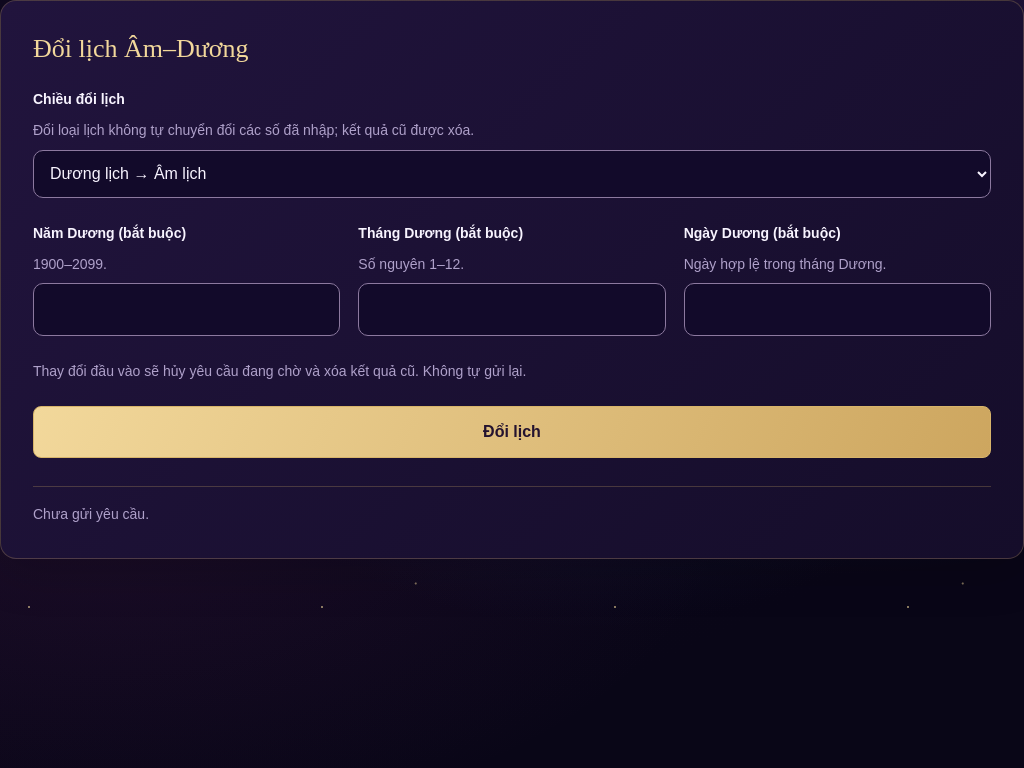
Test: Phase 6 independent calendar forms › clears a completed result immediately on edit without automatic resubmit
Type "2000" into the field labelled "Năm Dương (bắt buộc)".
click(187, 309); type("2000")  # box [33,283,340,336]
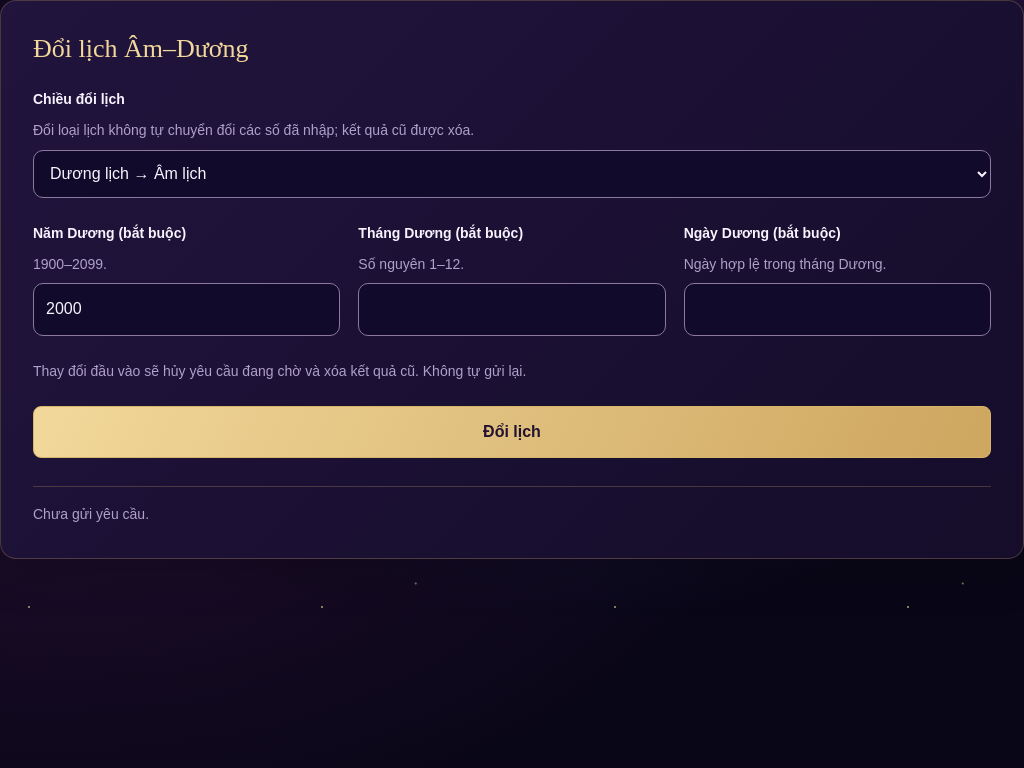
Type "1" into the field labelled "Tháng Dương (bắt buộc)".
click(512, 309); type("1")  # box [358,283,666,336]
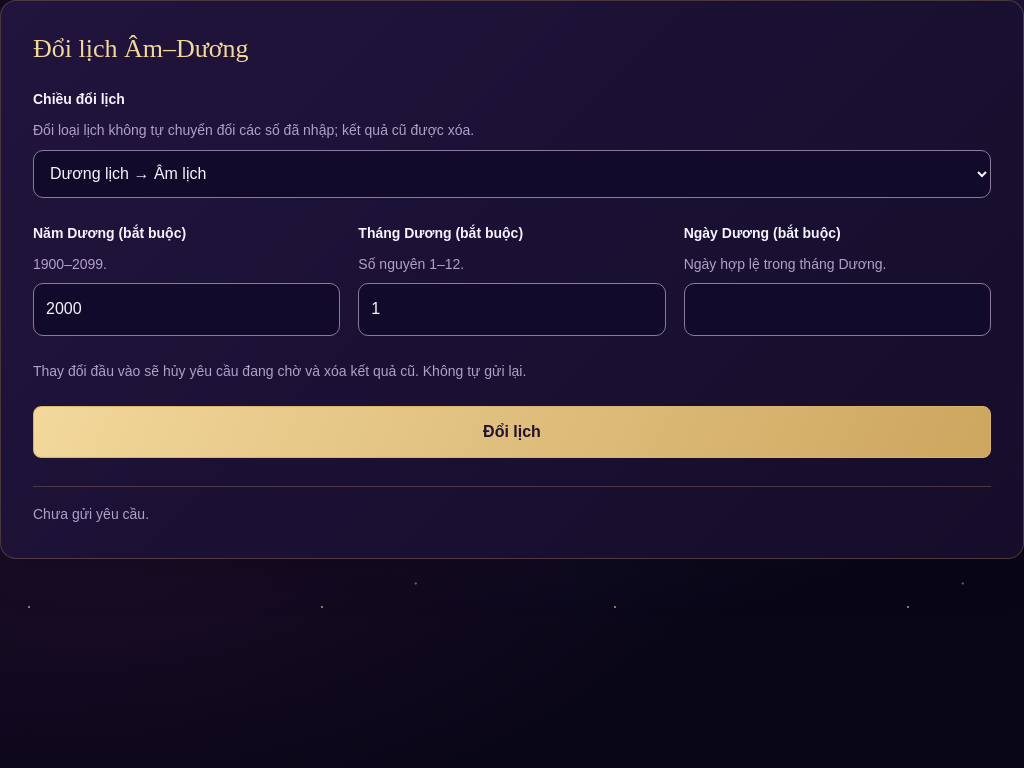
Type "1" into the field labelled "Ngày Dương (bắt buộc)".
click(837, 309); type("1")  # box [684,283,991,336]
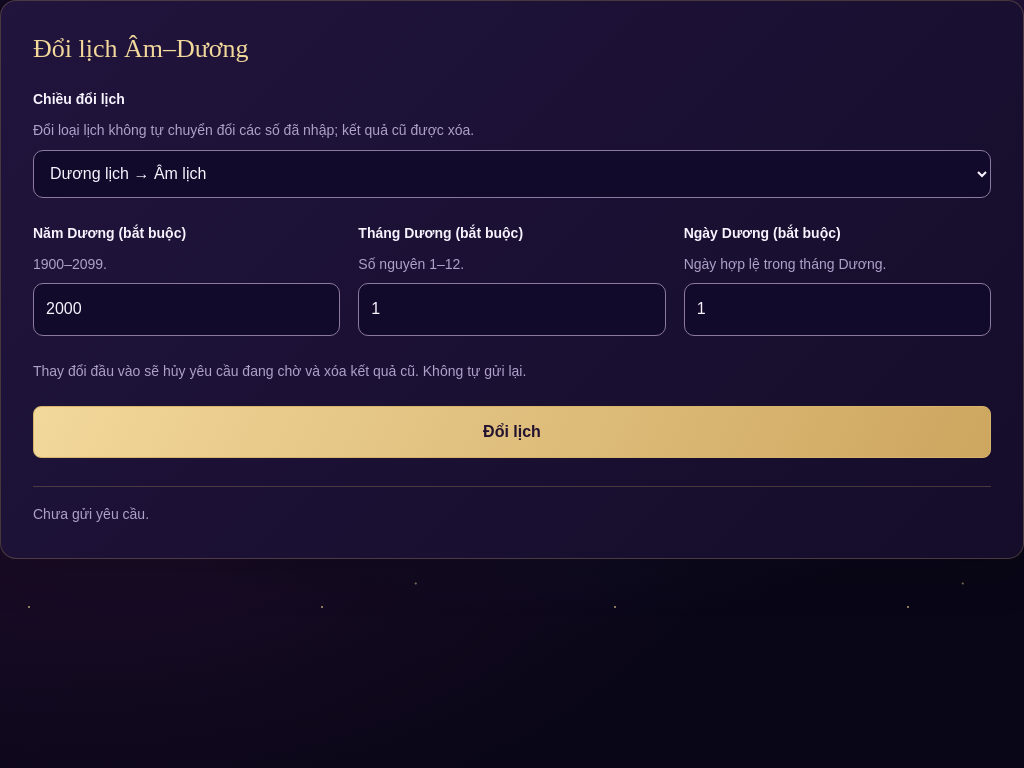
Click the button "Đổi lịch".
click(512, 432)  # box [33,406,991,458]
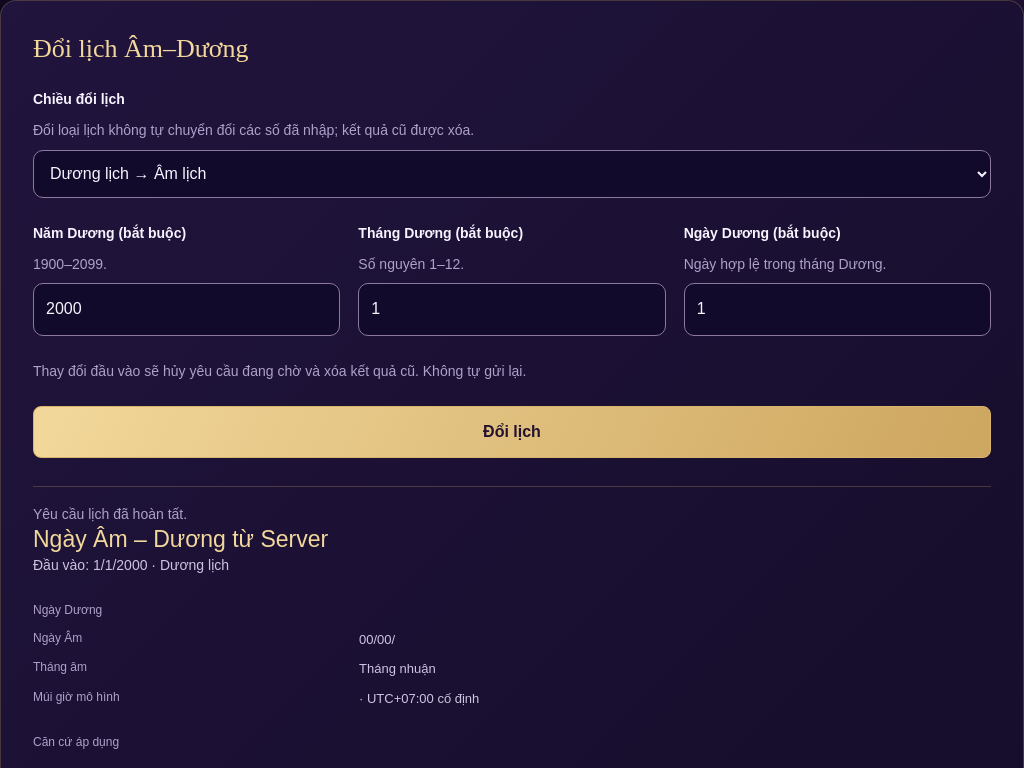
Replace the text in the field labelled "Năm Dương (bắt buộc)" with "2001" at [187, 309], box [33,283,340,336]
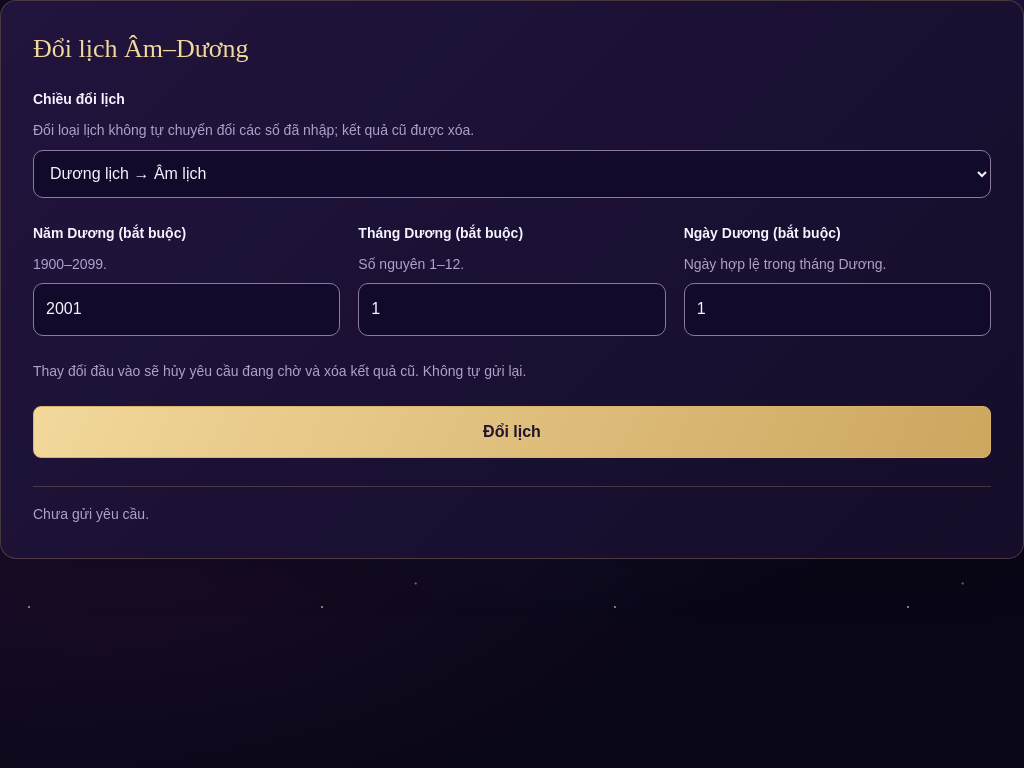
Expected: the message reads "Chưa gửi yêu cầu.", [33,506,149,522]
